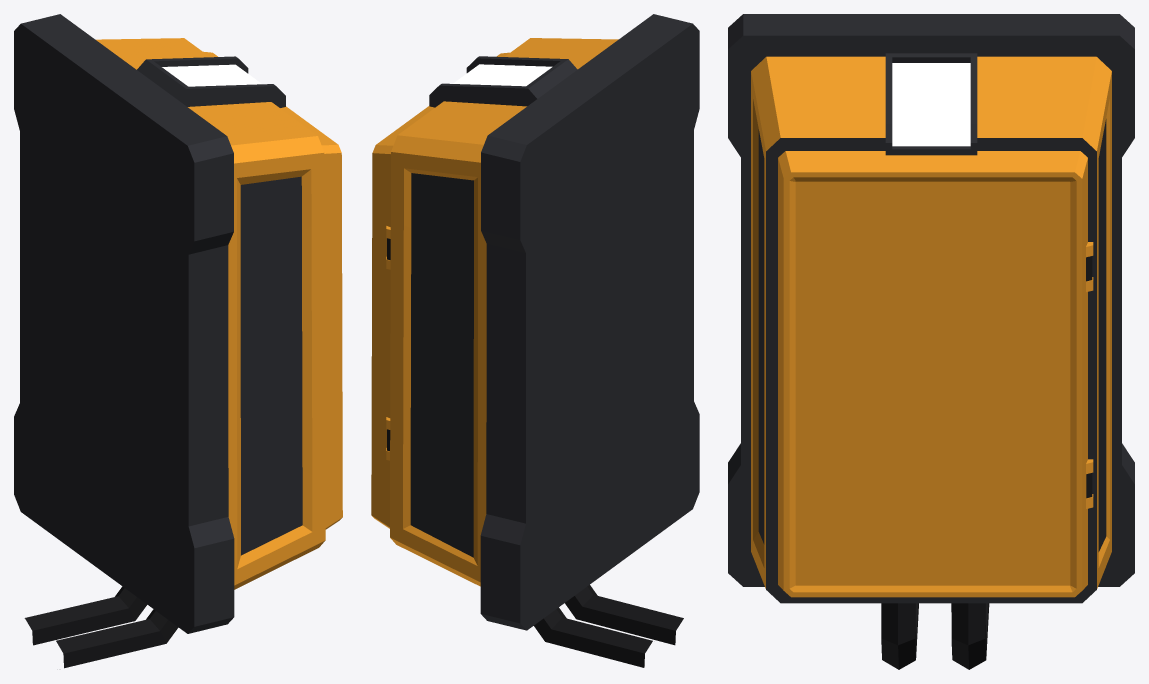
File: SM_Box_for_energy_cells.glb
3 views of the same model, side by side, from view 1: azimuth 30°, elevation 25°; view 2: azimuth 150°, elevation 25°; view 3: azimuth 270°, elevation 25° (orthographic). The views are drawn at different scales.
Visible parts, largest first — view 1: SM_Box_for_energy_cells, SM_Door_for_energy_cells_box; view 2: SM_Box_for_energy_cells, SM_Door_for_energy_cells_box; view 3: SM_Door_for_energy_cells_box, SM_Box_for_energy_cells.
Part boxes in pixels (x1,y1,x2,y2): SM_Box_for_energy_cells: [14, 14, 325, 668]; SM_Door_for_energy_cells_box: [203, 51, 342, 529]; SM_Box_for_energy_cells: [390, 14, 699, 667]; SM_Door_for_energy_cells_box: [371, 52, 509, 528]; SM_Door_for_energy_cells_box: [778, 151, 1093, 597]; SM_Box_for_energy_cells: [728, 14, 1134, 669].
Size of the model in its own units: 0.7739 by 1.77 by 1.03.
2 materials, 1 textured.
